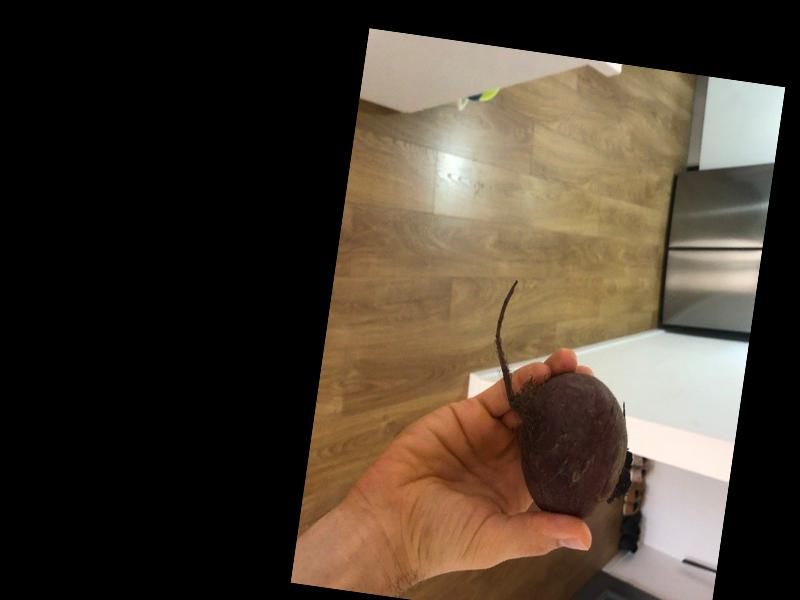Beet: (472, 278, 655, 524)
